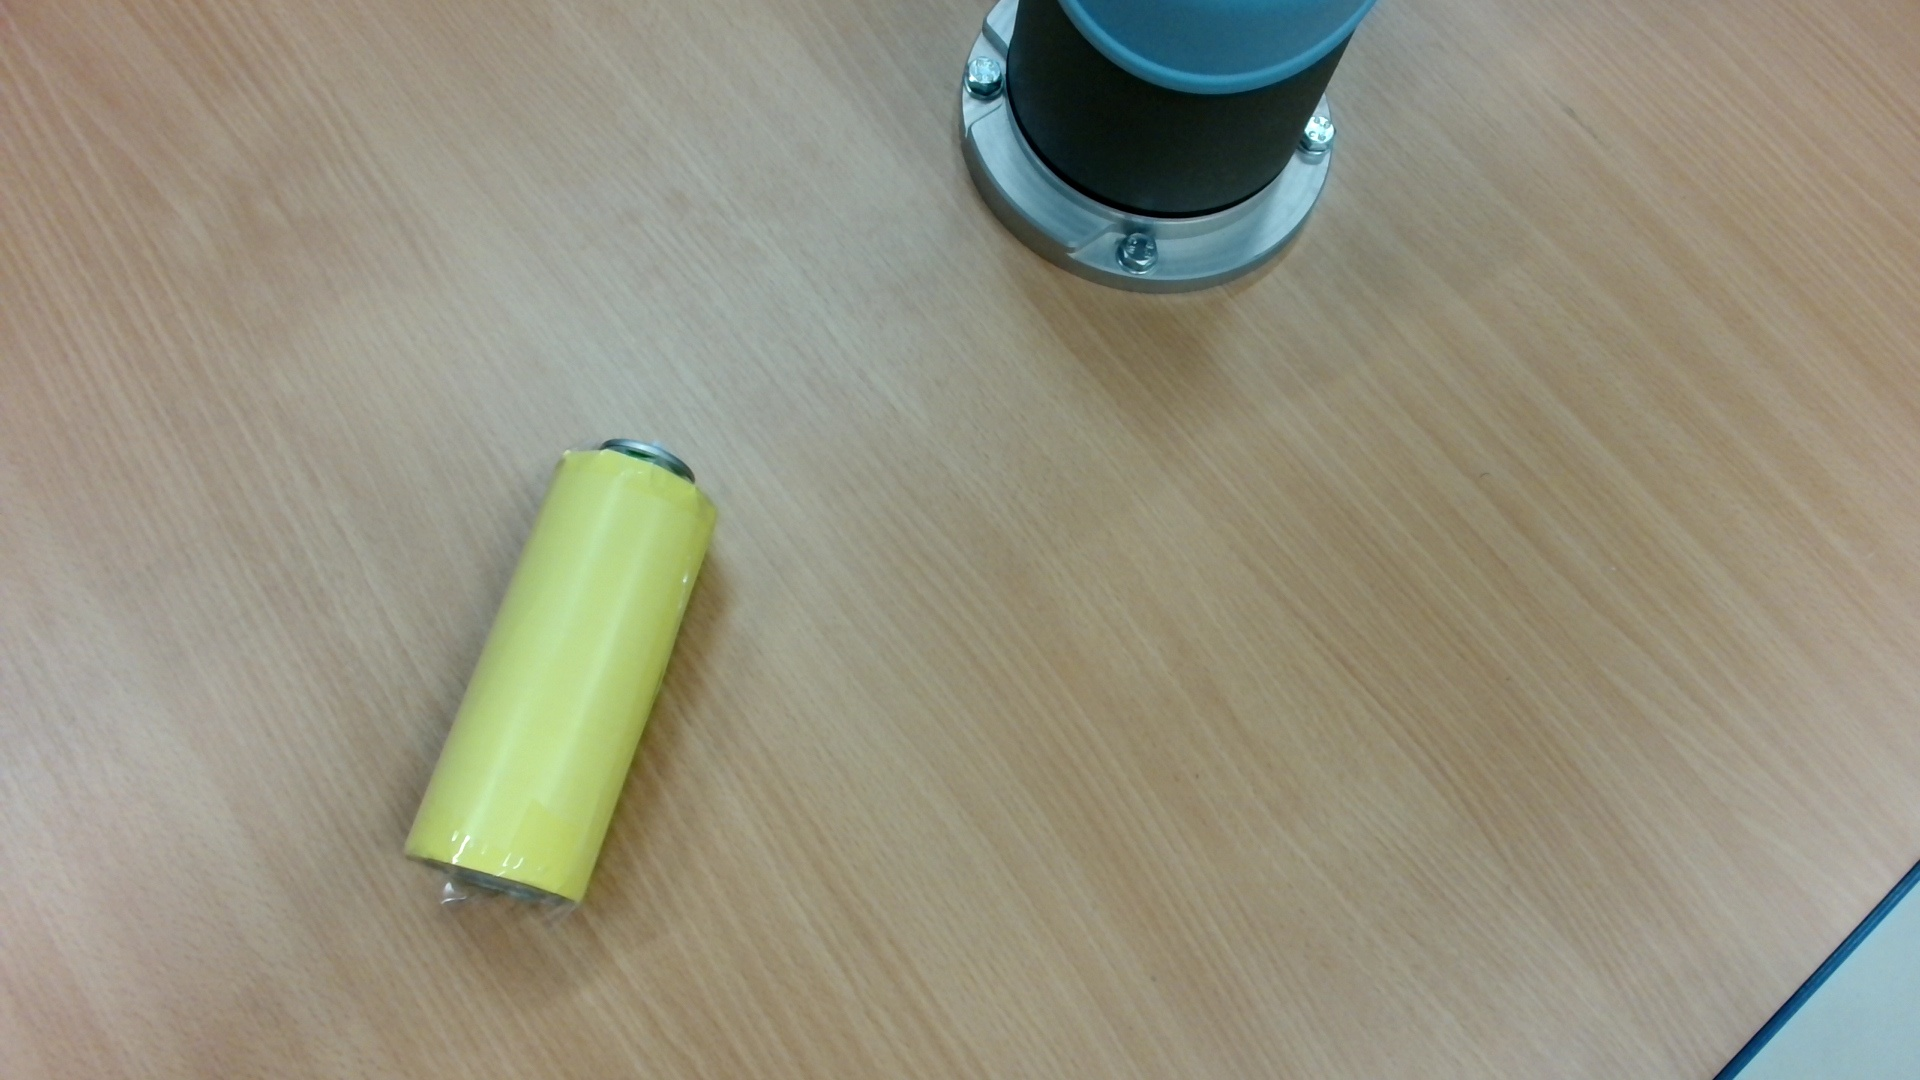Cylinder: (386, 422, 727, 932)
